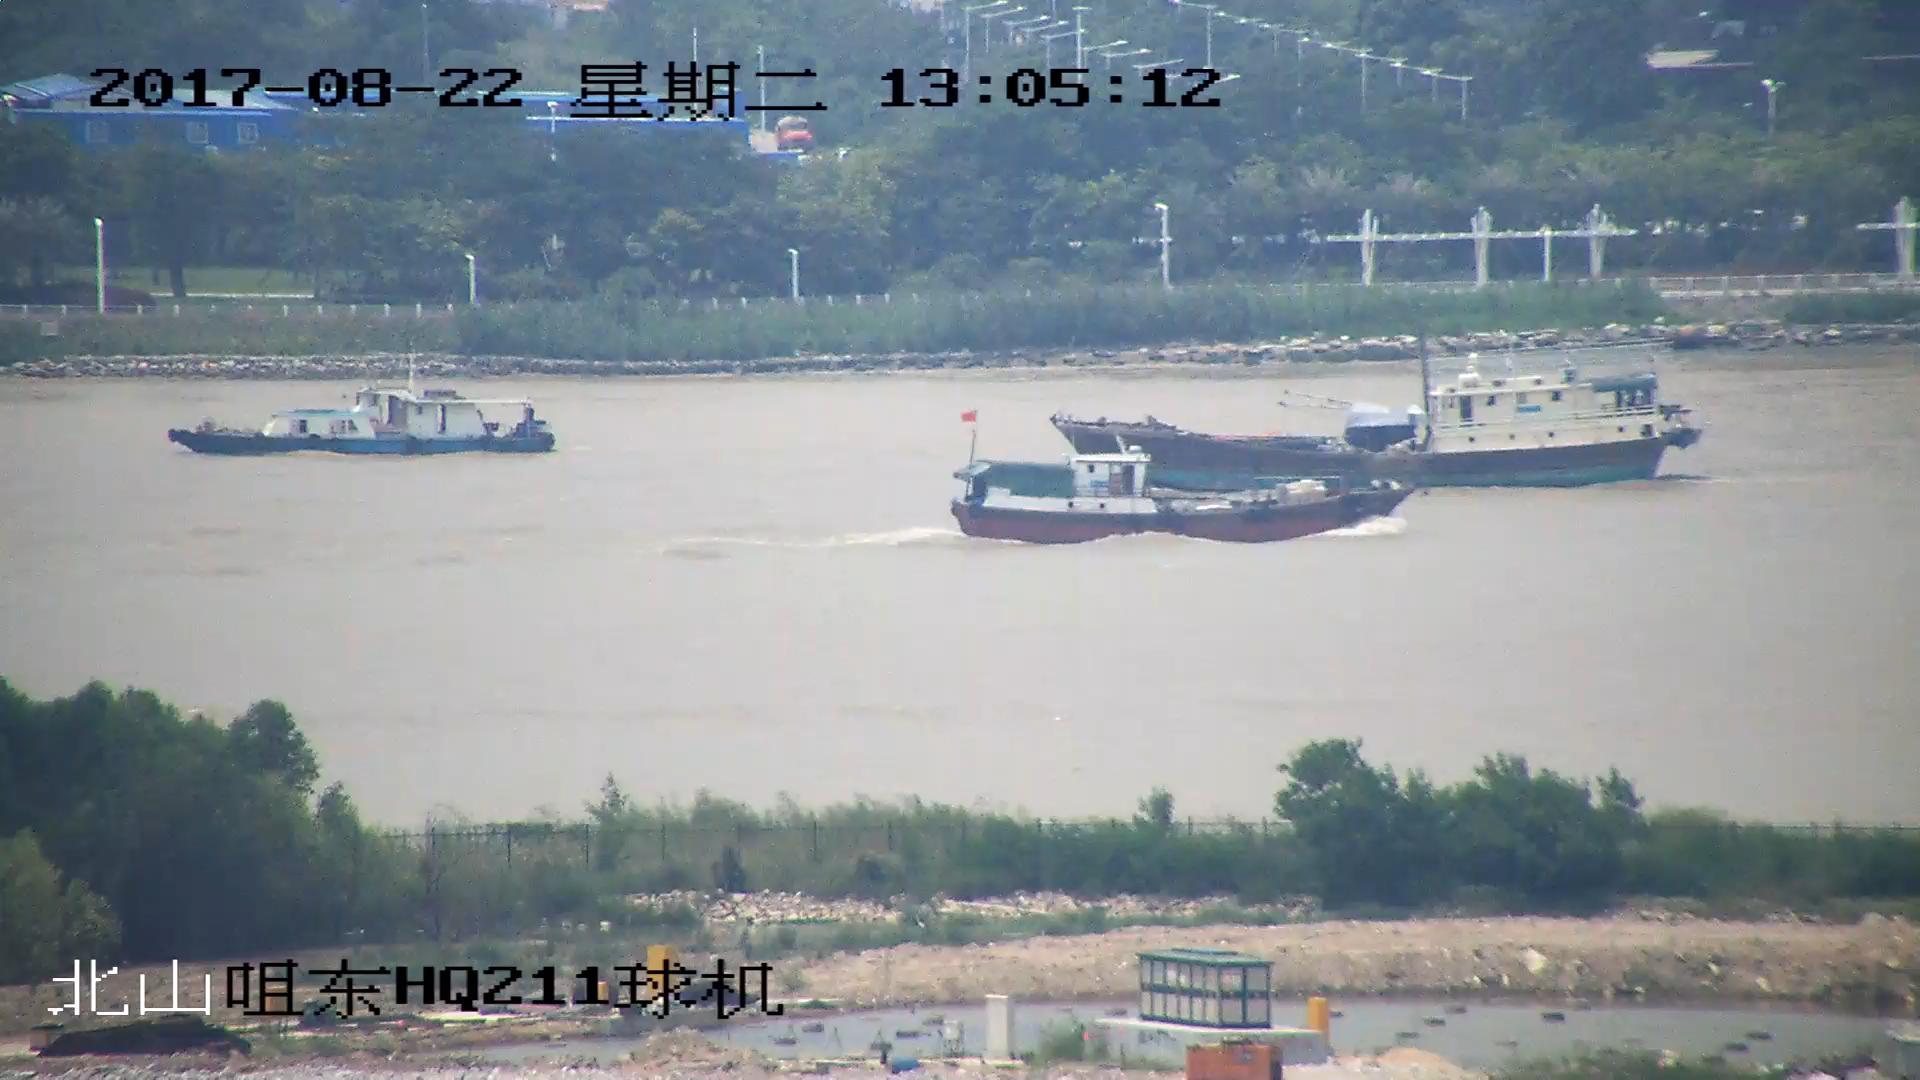fishing boat: (1055, 325, 1699, 495), (953, 412, 1416, 542), (163, 358, 563, 459)
